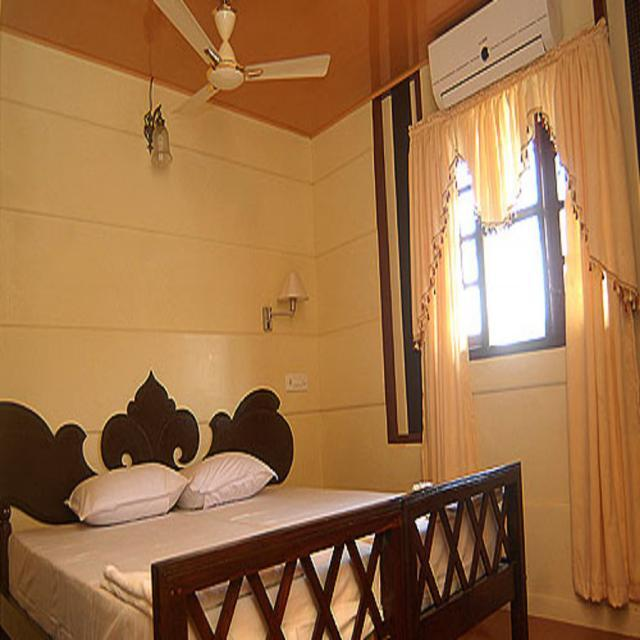fan_off: (142, 0, 330, 111)
